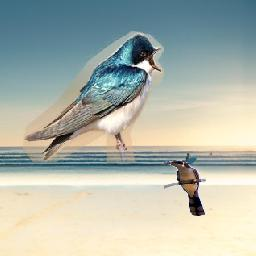Cuckoo: (164, 160, 206, 216)
Swallow: (24, 32, 165, 163)
